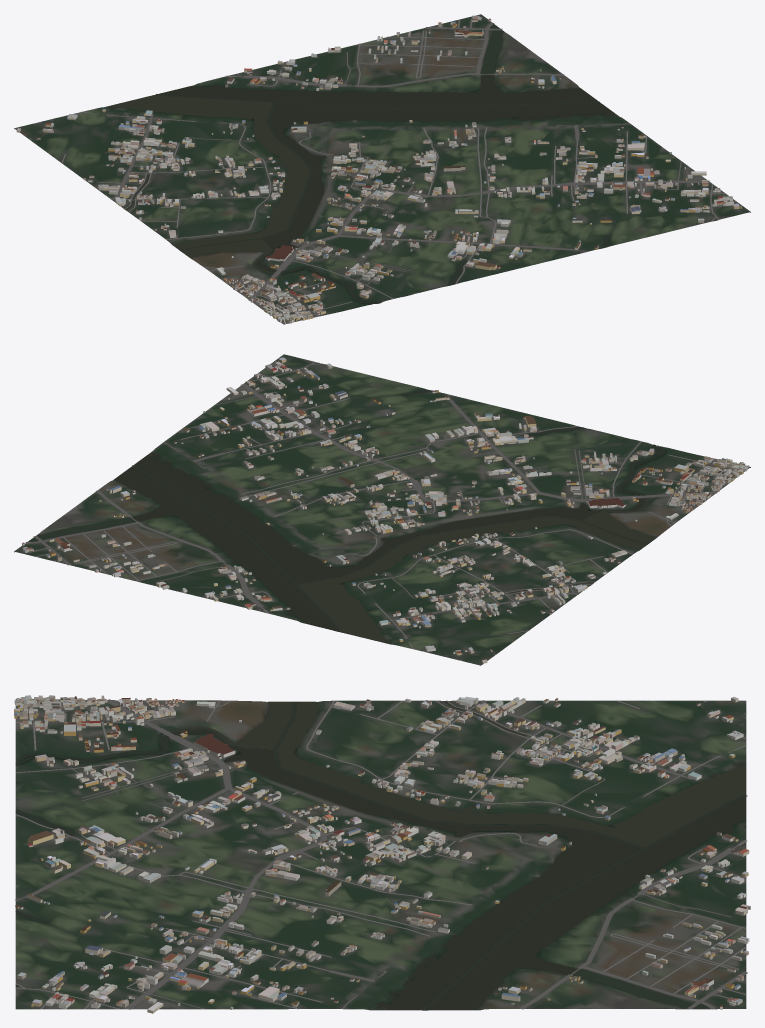
3 views of the same model, one above another, from view 1: azimuth 30°, elevation 25°; view 2: azimuth 150°, elevation 25°; view 3: azimuth 270°, elevation 25° (orthographic). The views are drawn at different scales.
Visible parts, largest first — view 1: ground, water, buildings, roads; view 2: ground, water, buildings, roads; view 3: ground, water, buildings, roads.
Part boxes in pixels (<box>): ground: <box>14,14,750,324</box>; water: <box>106,24,716,303</box>; buildings: <box>16,15,741,323</box>; roads: <box>28,19,741,316</box>; ground: <box>14,354,750,665</box>; water: <box>28,362,665,643</box>; buildings: <box>22,357,749,663</box>; roads: <box>25,361,735,660</box>; ground: <box>15,699,746,1010</box>; water: <box>15,701,747,1010</box>; buildings: <box>14,695,750,1013</box>; roads: <box>15,699,747,1009</box>.
Size of the model in its own units: 1424 by 20.48 by 1413.
